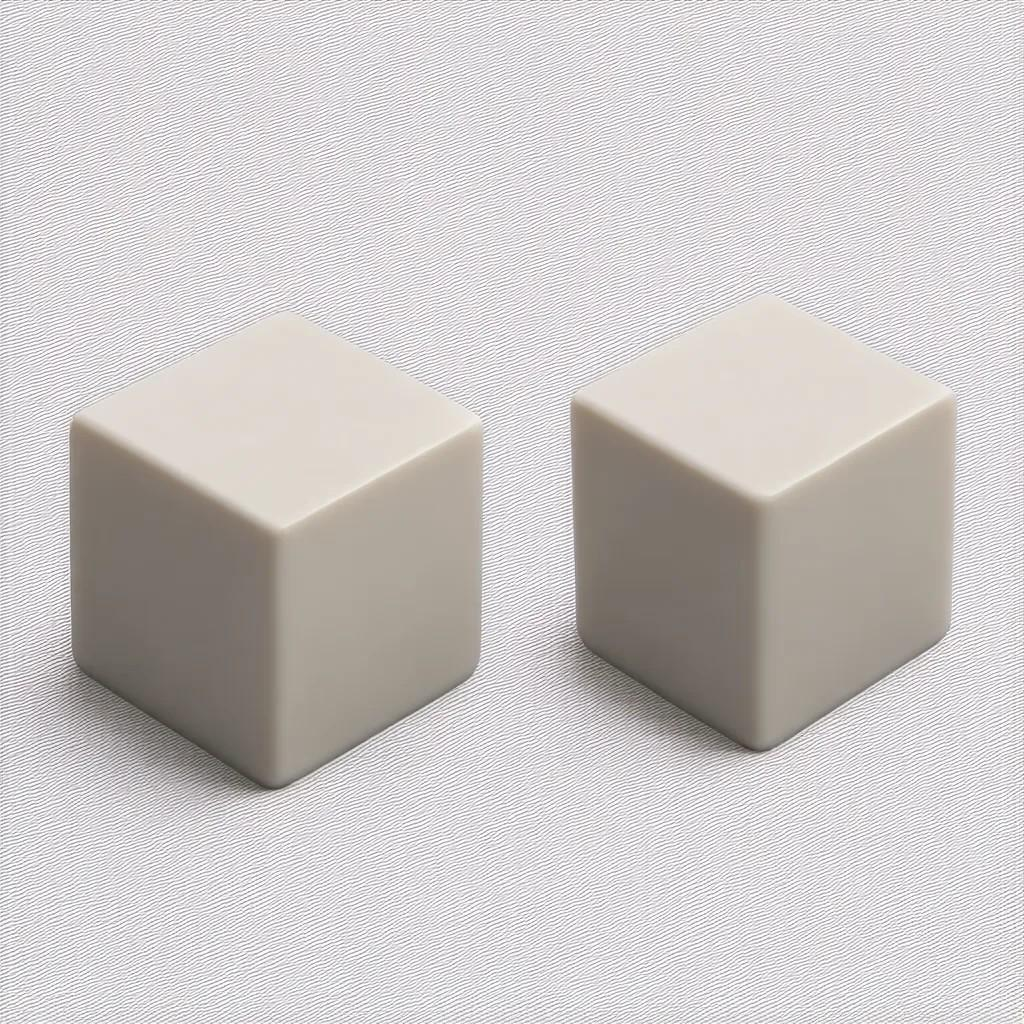cube: (67, 310, 484, 789), (568, 291, 956, 752)
